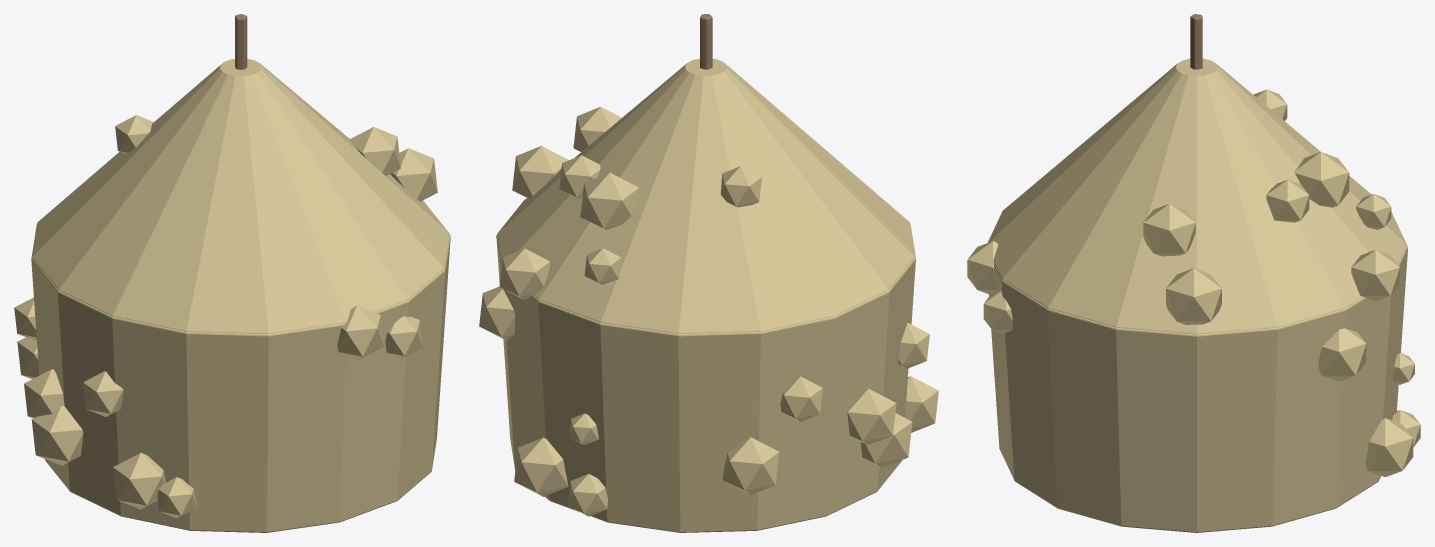
Rendered from HayStack.fbx.
The picture shows the model from 3 angles, left to right: view 1: azimuth 30°, elevation 25°; view 2: azimuth 150°, elevation 25°; view 3: azimuth 270°, elevation 25°; orthographic projection.
Parts seen in each view (by area): view 1: HayStack; view 2: HayStack; view 3: HayStack.
Part boxes in pixels (left/top/right/bottom): HayStack: left=14, top=14, right=450, bottom=532; HayStack: left=479, top=14, right=938, bottom=532; HayStack: left=967, top=14, right=1420, bottom=532.
Size of the model in its own units: 3.24 by 3.4 by 3.22.
